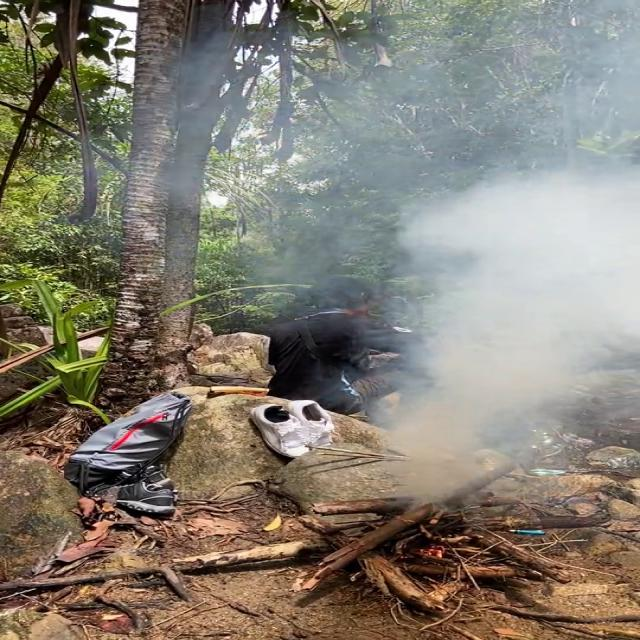smoke: (413, 160, 634, 318), (395, 295, 640, 405), (380, 388, 570, 478), (404, 462, 472, 498)
